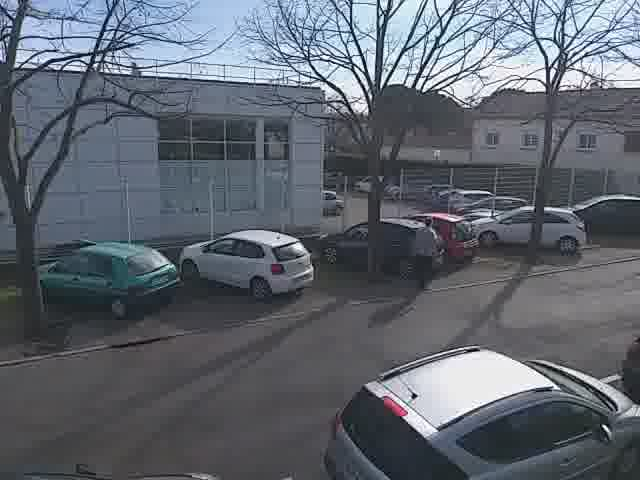persona: (403, 206, 441, 291)
